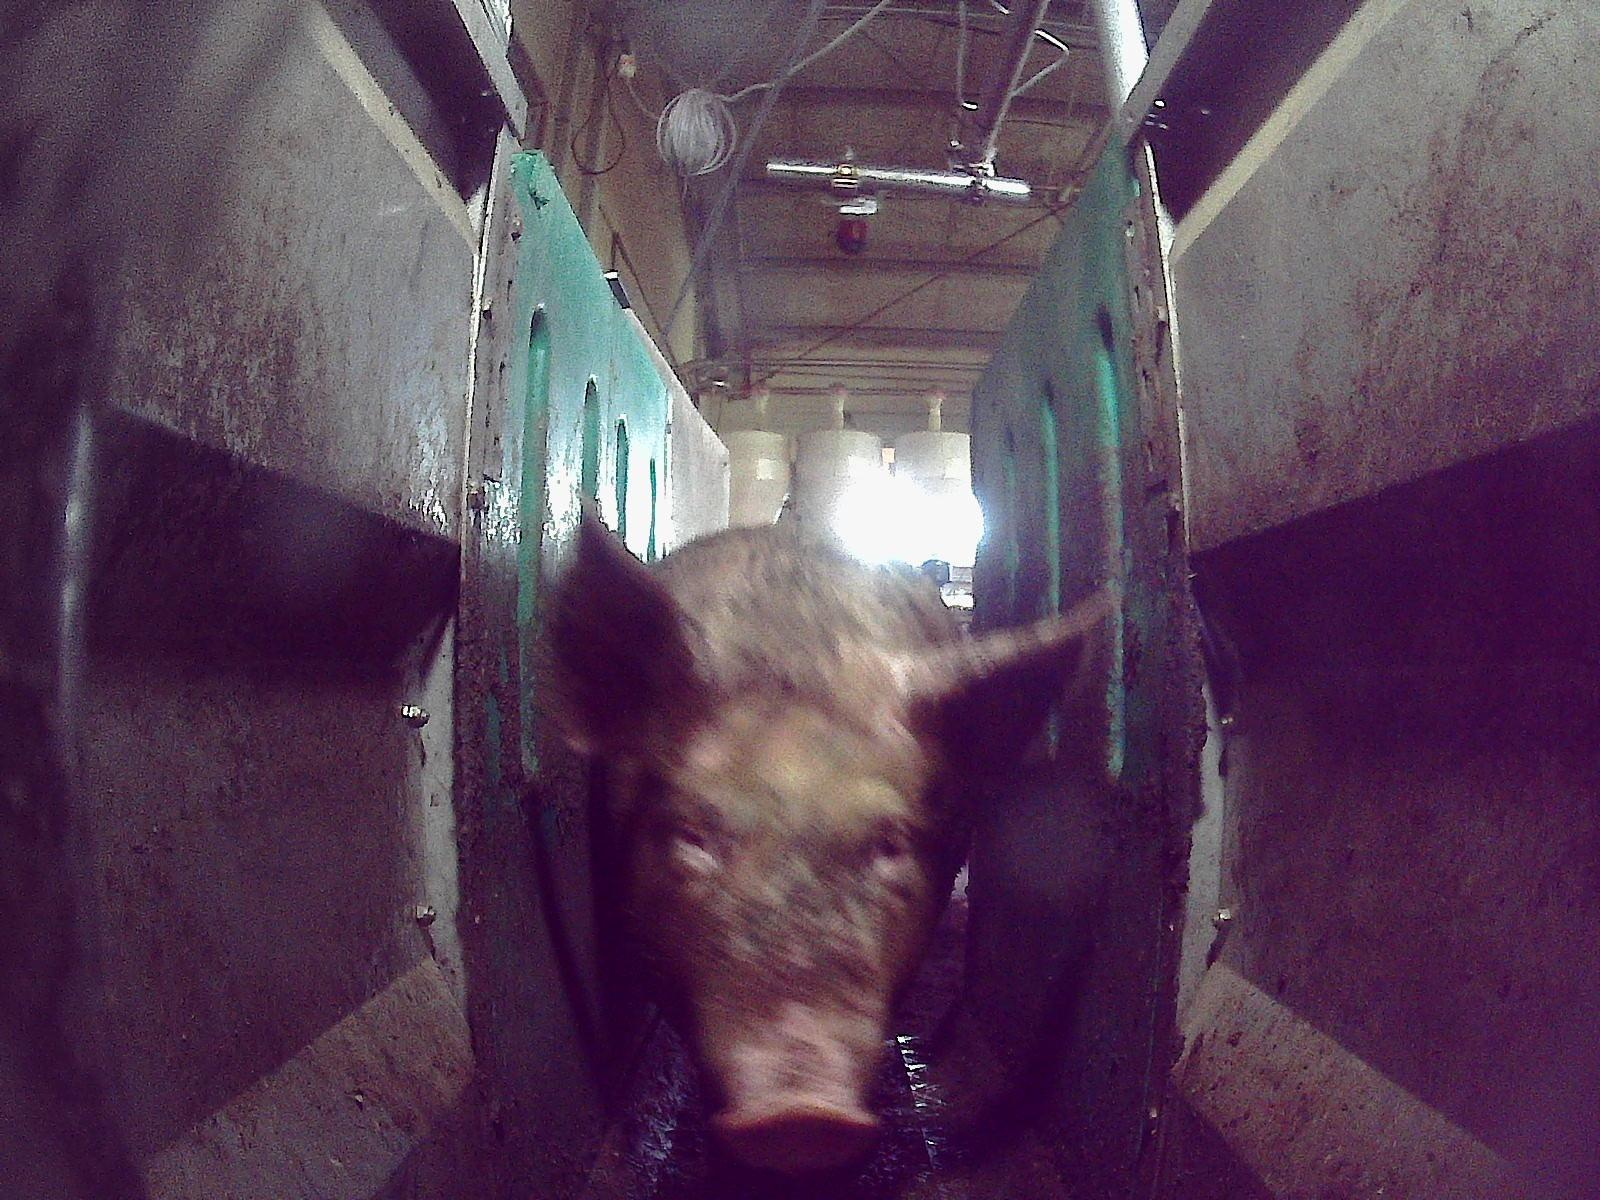Face: (621, 667, 934, 1171)
